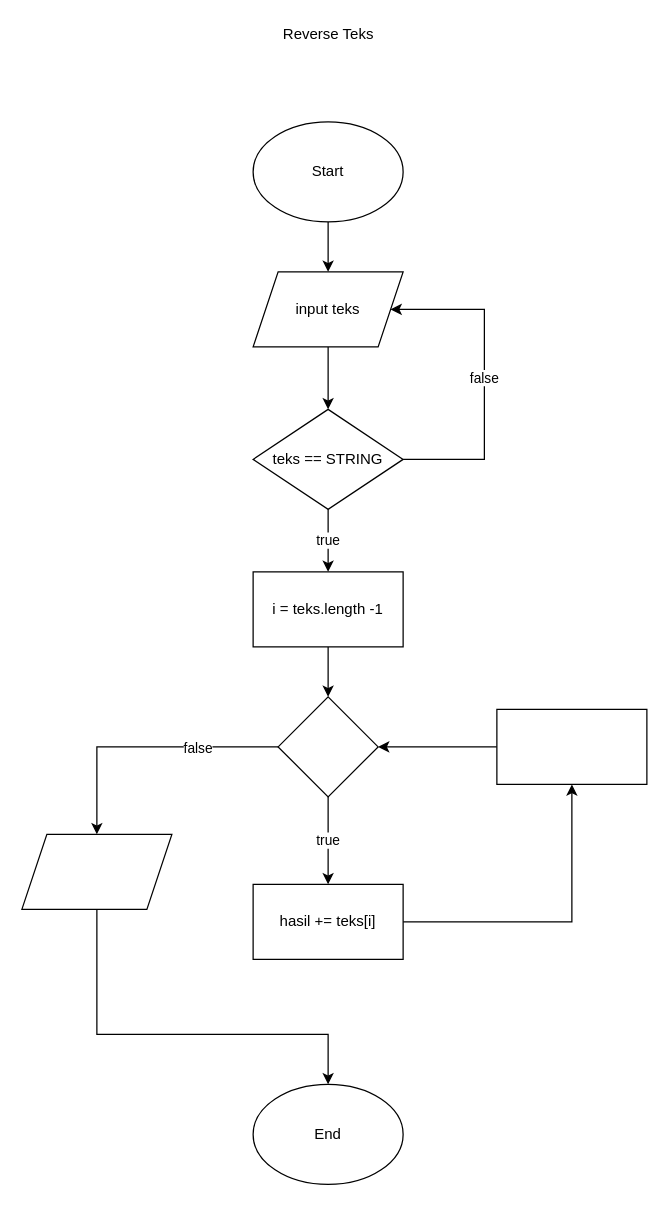
Some shapes in this 669 by 1206 pixel diagram are drawn without their labels. The centre of each missing label's shape, as x and y in pixels:
"cetak hasil" goes at point (96, 871).
"i --" goes at point (571, 746).
"i >= 0" goes at point (327, 746).
